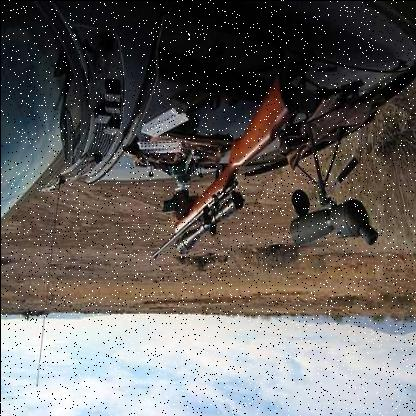rifle: (136, 49, 308, 279)
